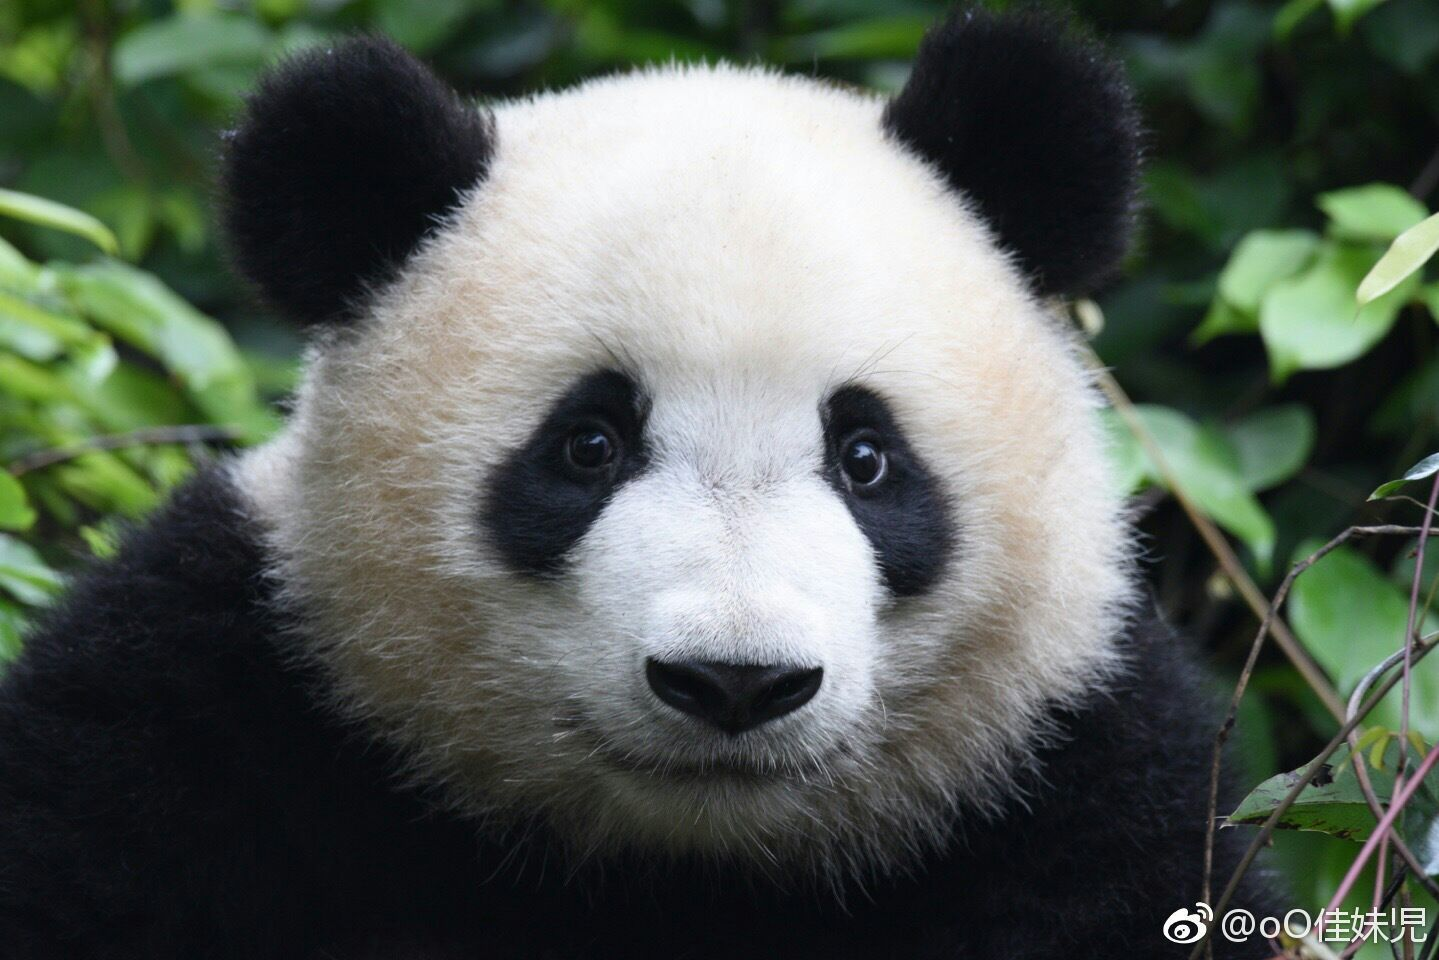panda: (105, 30, 1230, 853)
